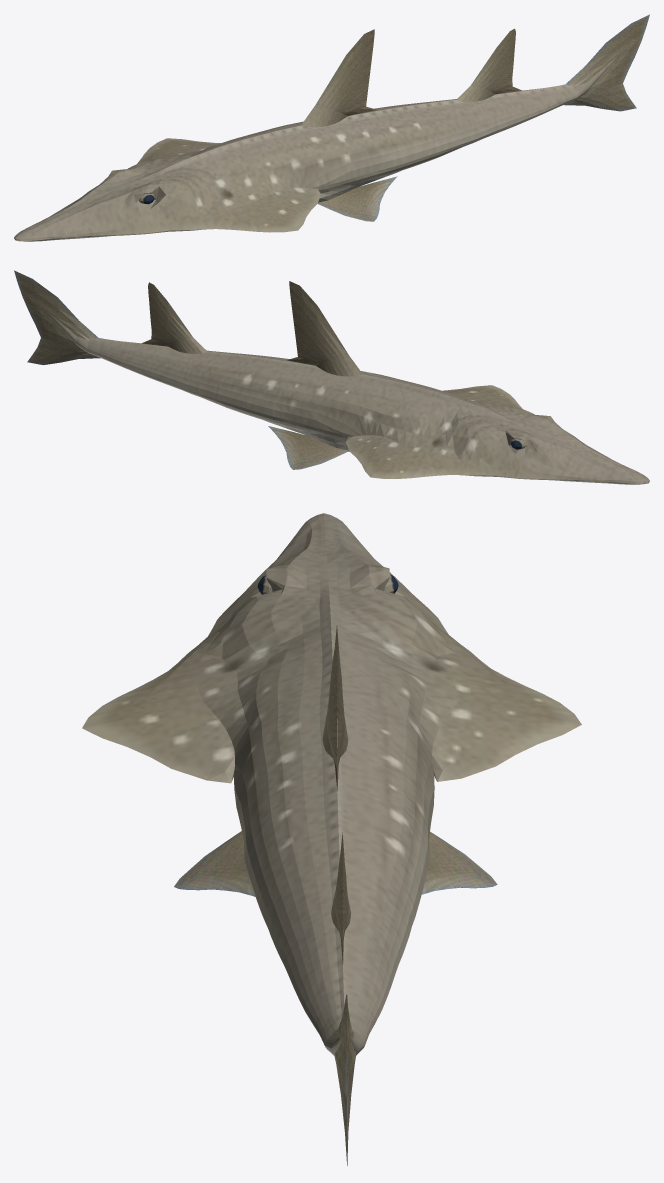
Rendered from fish.gltf.
3 views of the same model, one above another, from view 1: azimuth 30°, elevation 25°; view 2: azimuth 150°, elevation 25°; view 3: azimuth 270°, elevation 25° (orthographic). The views are drawn at different scales.
Bounding box in the file's own units: 2.5 × 0.5654 × 0.8603.
Materials: 1 (1 with a texture image).
